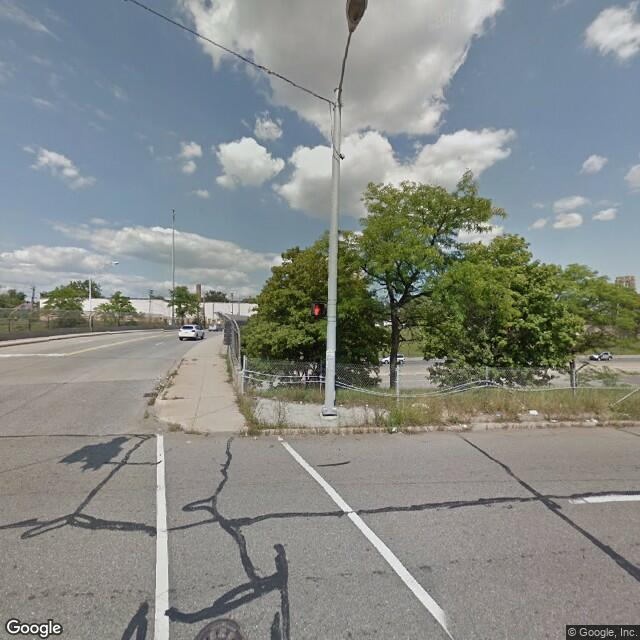litter: (582, 415, 602, 425), (549, 417, 559, 427), (527, 408, 539, 415), (389, 423, 397, 433), (460, 424, 473, 430)
